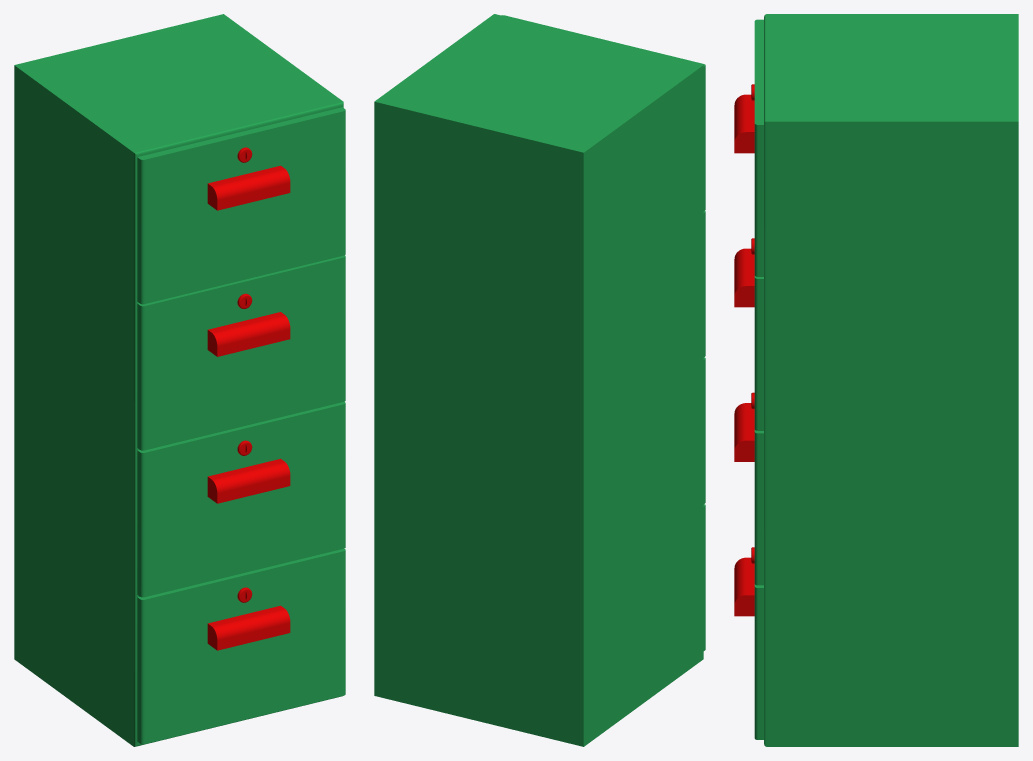
Rendered from armariodocumentos_quadrado.fbx.
3 views of the same model, side by side, from view 1: azimuth 30°, elevation 25°; view 2: azimuth 150°, elevation 25°; view 3: azimuth 270°, elevation 25° (orthographic). The views are drawn at different scales.
Parts seen in each view (by area): view 1: polySurface2, polySurface12, polySurface16, polySurface15, polySurface14; view 2: polySurface2, polySurface12; view 3: polySurface2, polySurface12, polySurface16, polySurface14, polySurface15.
Part boxes in pixels (x1,y1,x2,y2): polySurface2: (14,14,343,746); polySurface12: (137,107,345,304); polySurface16: (137,548,345,744); polySurface15: (137,401,345,597); polySurface14: (137,255,345,450); polySurface2: (374,14,703,746); polySurface12: (501,15,705,210); polySurface2: (764,14,1018,746); polySurface12: (734,19,763,276); polySurface16: (734,547,763,739); polySurface14: (734,238,763,430); polySurface15: (734,392,763,585).
Bounding box in the file's own units: 52.7 × 143 × 58.8.
